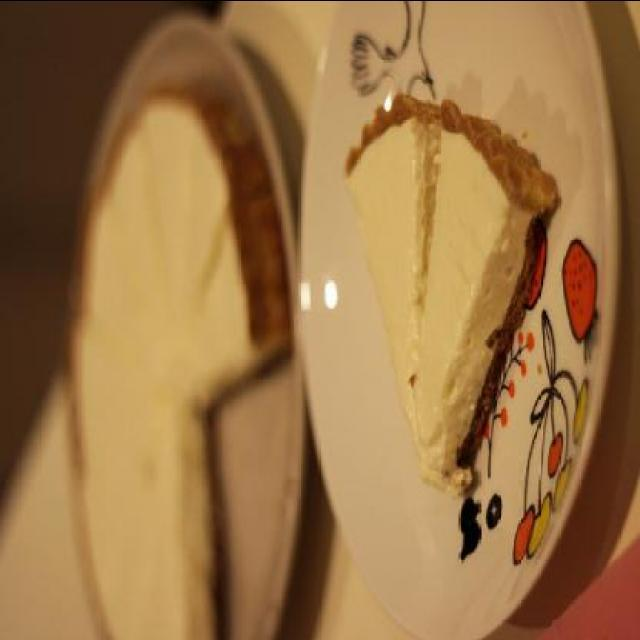Rare cheese cake: (58, 12, 284, 638), (344, 62, 547, 496)
